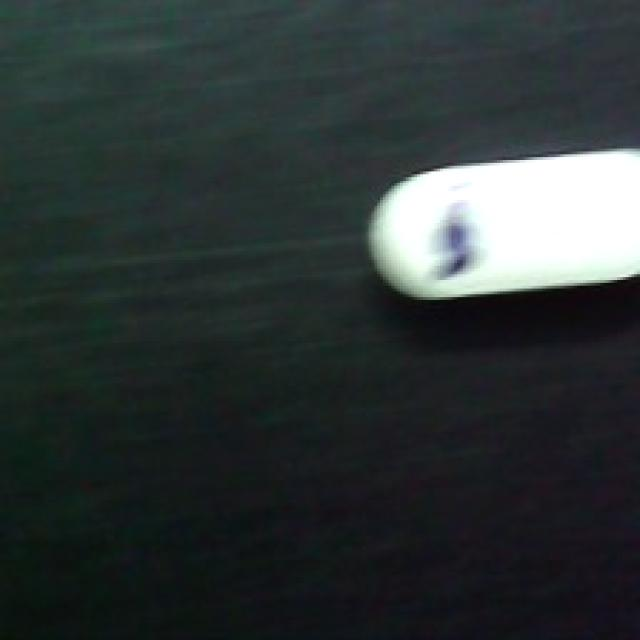defected: (360, 146, 640, 303)
